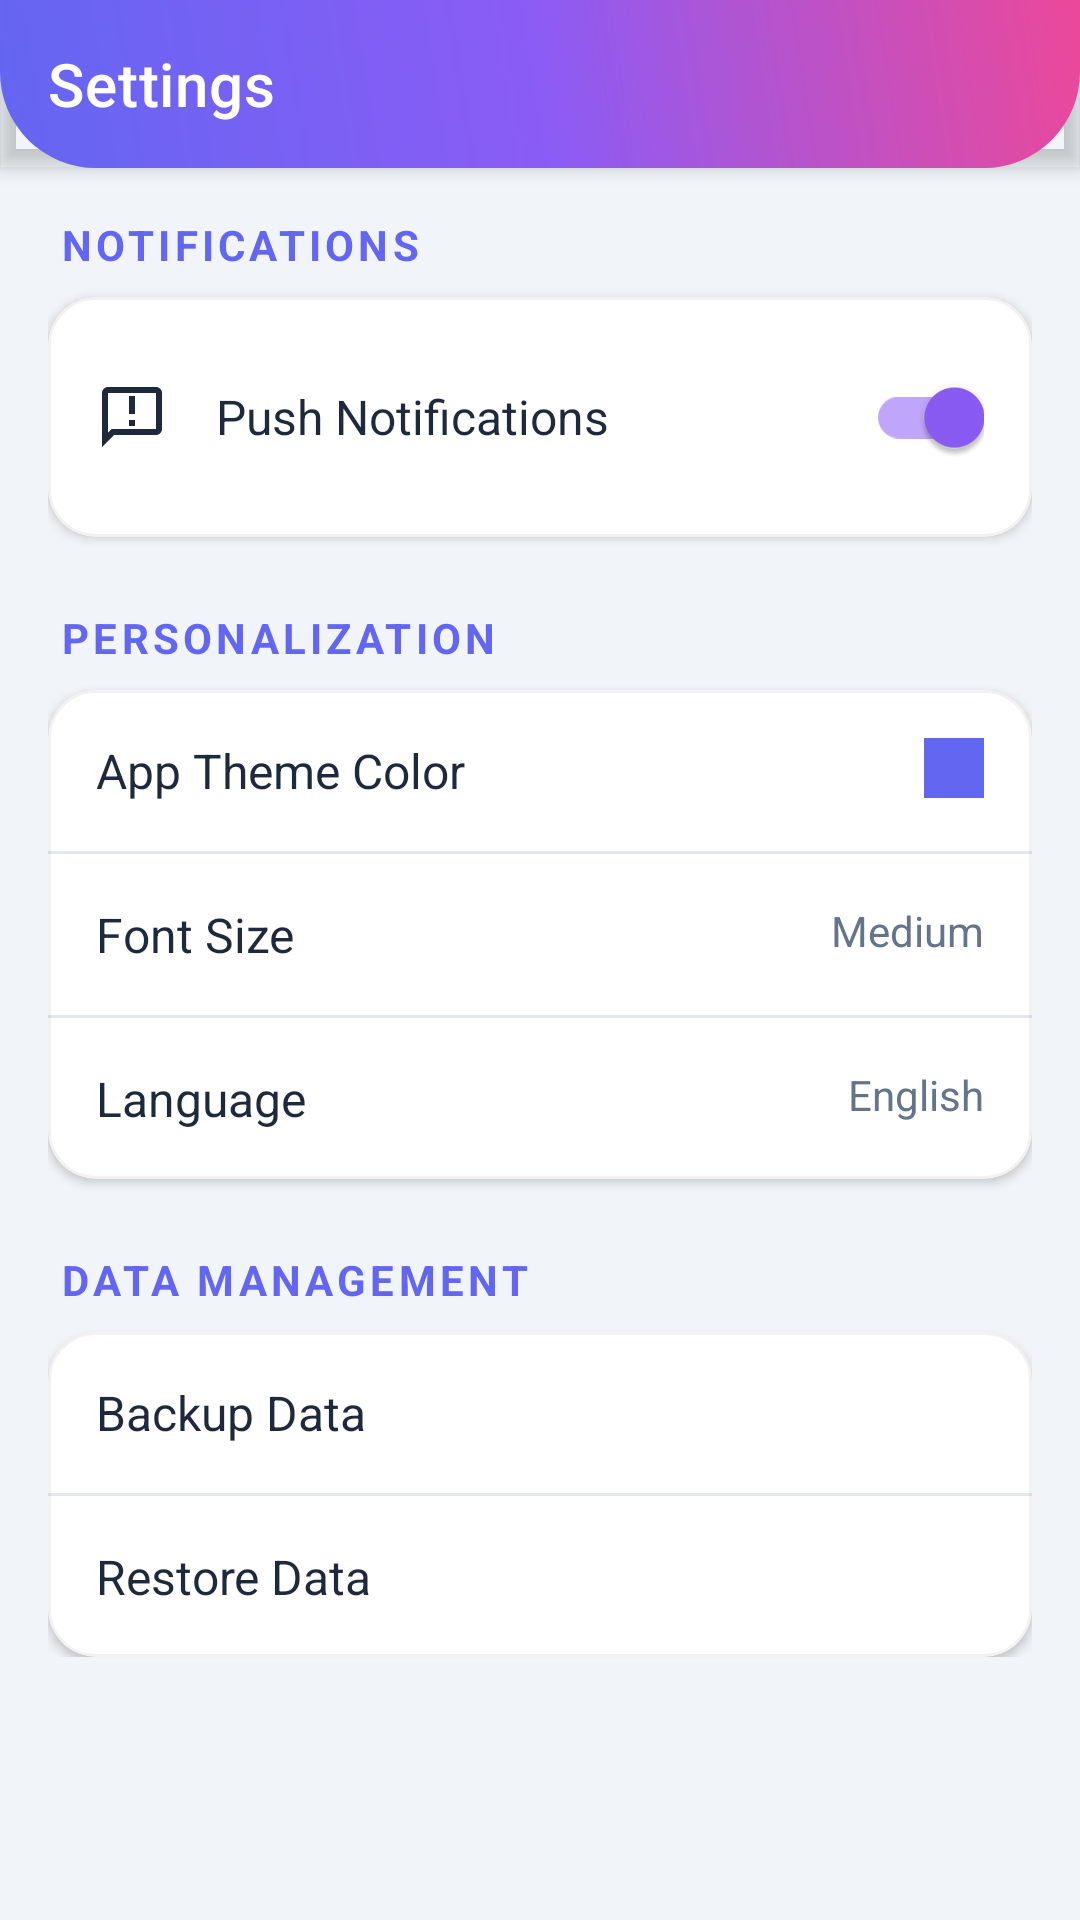

Named icons in this screenshot (1080px x 1920px) and their bounding boxes, (x1, y1, x2, y2):
announcement: (102, 387, 162, 447)
